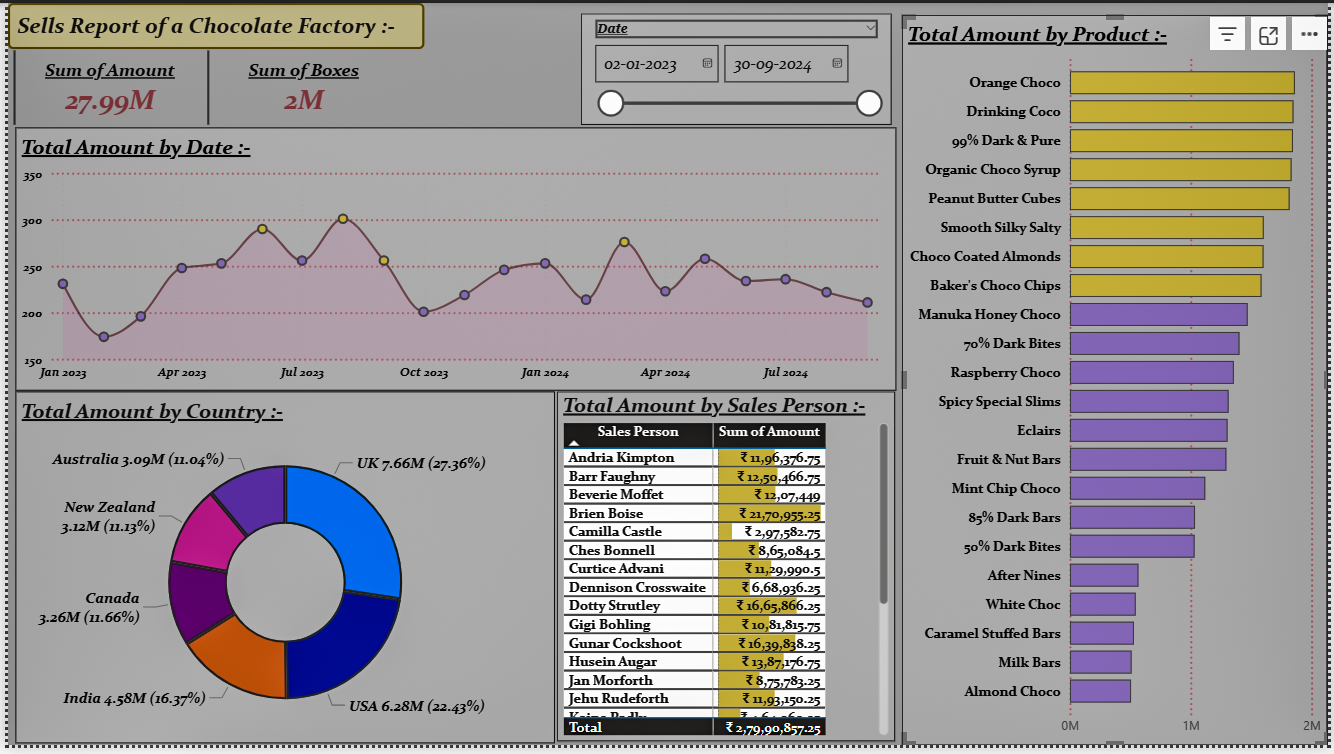

The page's visual inventory and layout, read from the dashboard file:
{"tool":"powerbi","page":{"name":"Page 1","canvas":[1280,720],"ordinal":0},"visuals":[{"type":"lineChart","title":"Total Amount by Date :-","fields":{"Y":["data.Amount"],"Category":["data.Date.Variation.Date Hierarchy.Year","data.Date.Variation.Date Hierarchy.Quarter","data.Date.Variation.Date Hierarchy.Month","data.Date.Variation.Date Hierarchy.Day"]},"box":[6.6,120.9,854.7,255.1],"z":0},{"type":"donutChart","title":"Total Amount by Country :-","fields":{"Category":["data.Country"],"Y":["data.Amount"]},"box":[6.6,377.7,523.4,341.2],"z":1000},{"type":"tableEx","title":"Total Amount by Sales Person :-","fields":{"Values":["data.Sales Person","data.Amount"]},"box":[533.4,377.7,328,339.6],"z":2000},{"type":"barChart","title":"Total Amount by Product :-","fields":{"Category":["data.Product"],"Y":["data.Amount"]},"box":[868,11.6,412.5,709],"z":3000},{"type":"cardVisual","fields":{"Data":["data.Amount","data.Boxes"]},"box":[0,41,387.6,82.8],"z":4000},{"type":"slicer","fields":{"Values":["data.Date"]},"box":[556.6,9.9,301.5,107.7],"z":5000},{"type":"textbox","box":[0,0,404.2,44.7],"z":6000}]}

Visuals, with their boxes in screenshot pixels (x1, y1, x2, y2), scaled from the page's 1280x720 canvas onto the 1334x754 screenshot:
"Total Amount by Date :-" lineChart: BBox(7, 127, 898, 394)
"Total Amount by Country :-" donutChart: BBox(7, 396, 552, 753)
"Total Amount by Sales Person :-" tableEx: BBox(556, 396, 898, 751)
"Total Amount by Product :-" barChart: BBox(905, 12, 1333, 753)
cardVisual - data.Amount x data.Boxes: BBox(0, 43, 404, 130)
slicer - data.Date: BBox(580, 10, 894, 123)
textbox: BBox(0, 0, 421, 47)
